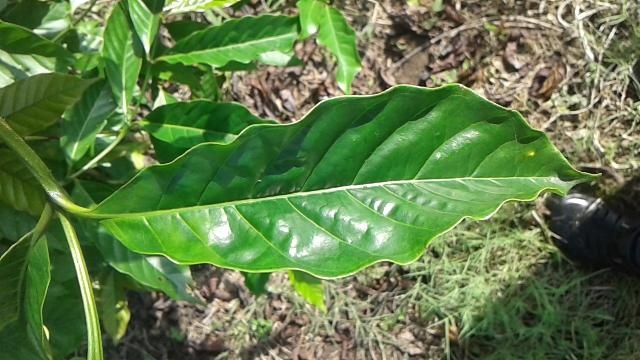rust_level_1: (88, 80, 611, 282)
